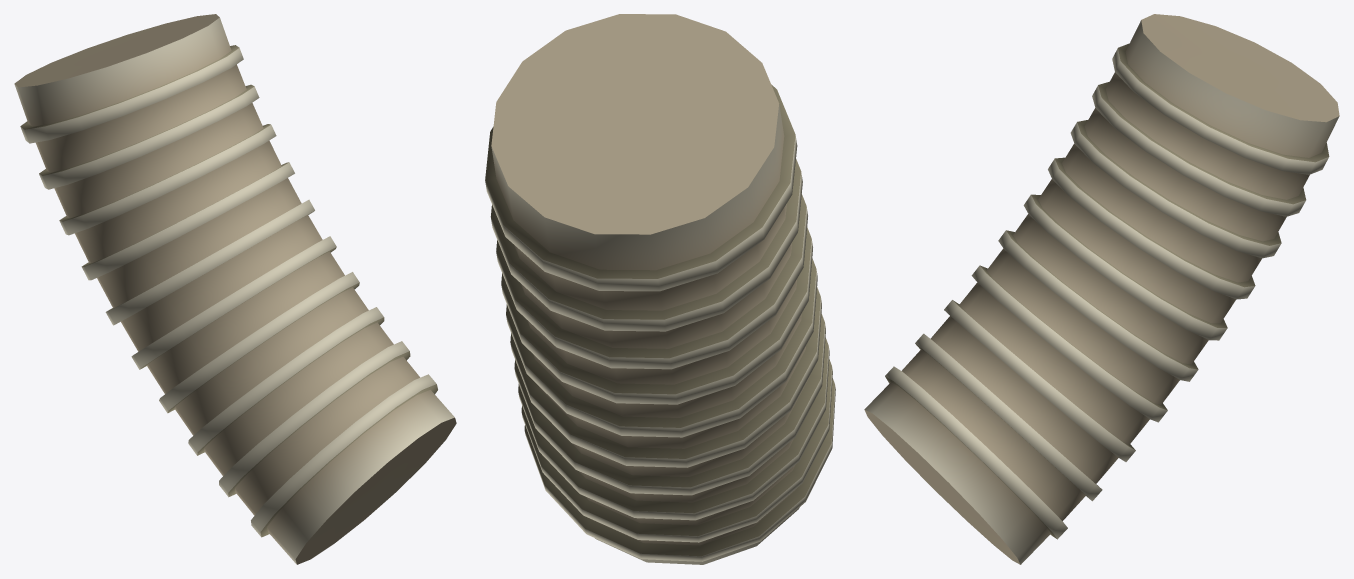
The model's file is microscopic-plankton-spiral-algae_v1.glb.
3 renders of one model, left to right at view 1: azimuth 30°, elevation 25°; view 2: azimuth 150°, elevation 25°; view 3: azimuth 270°, elevation 25°, orthographic. The views are drawn at different scales.
Visible parts, largest first — view 1: Spiral Algae; view 2: Spiral Algae; view 3: Spiral Algae.
Boxes of the visible parts, box(x1,y1,x2,y2) form: Spiral Algae: box(14, 14, 456, 564); Spiral Algae: box(485, 14, 835, 564); Spiral Algae: box(864, 14, 1339, 564).
Size of the model in its own units: 0.1922 by 0.3 by 0.2662.
